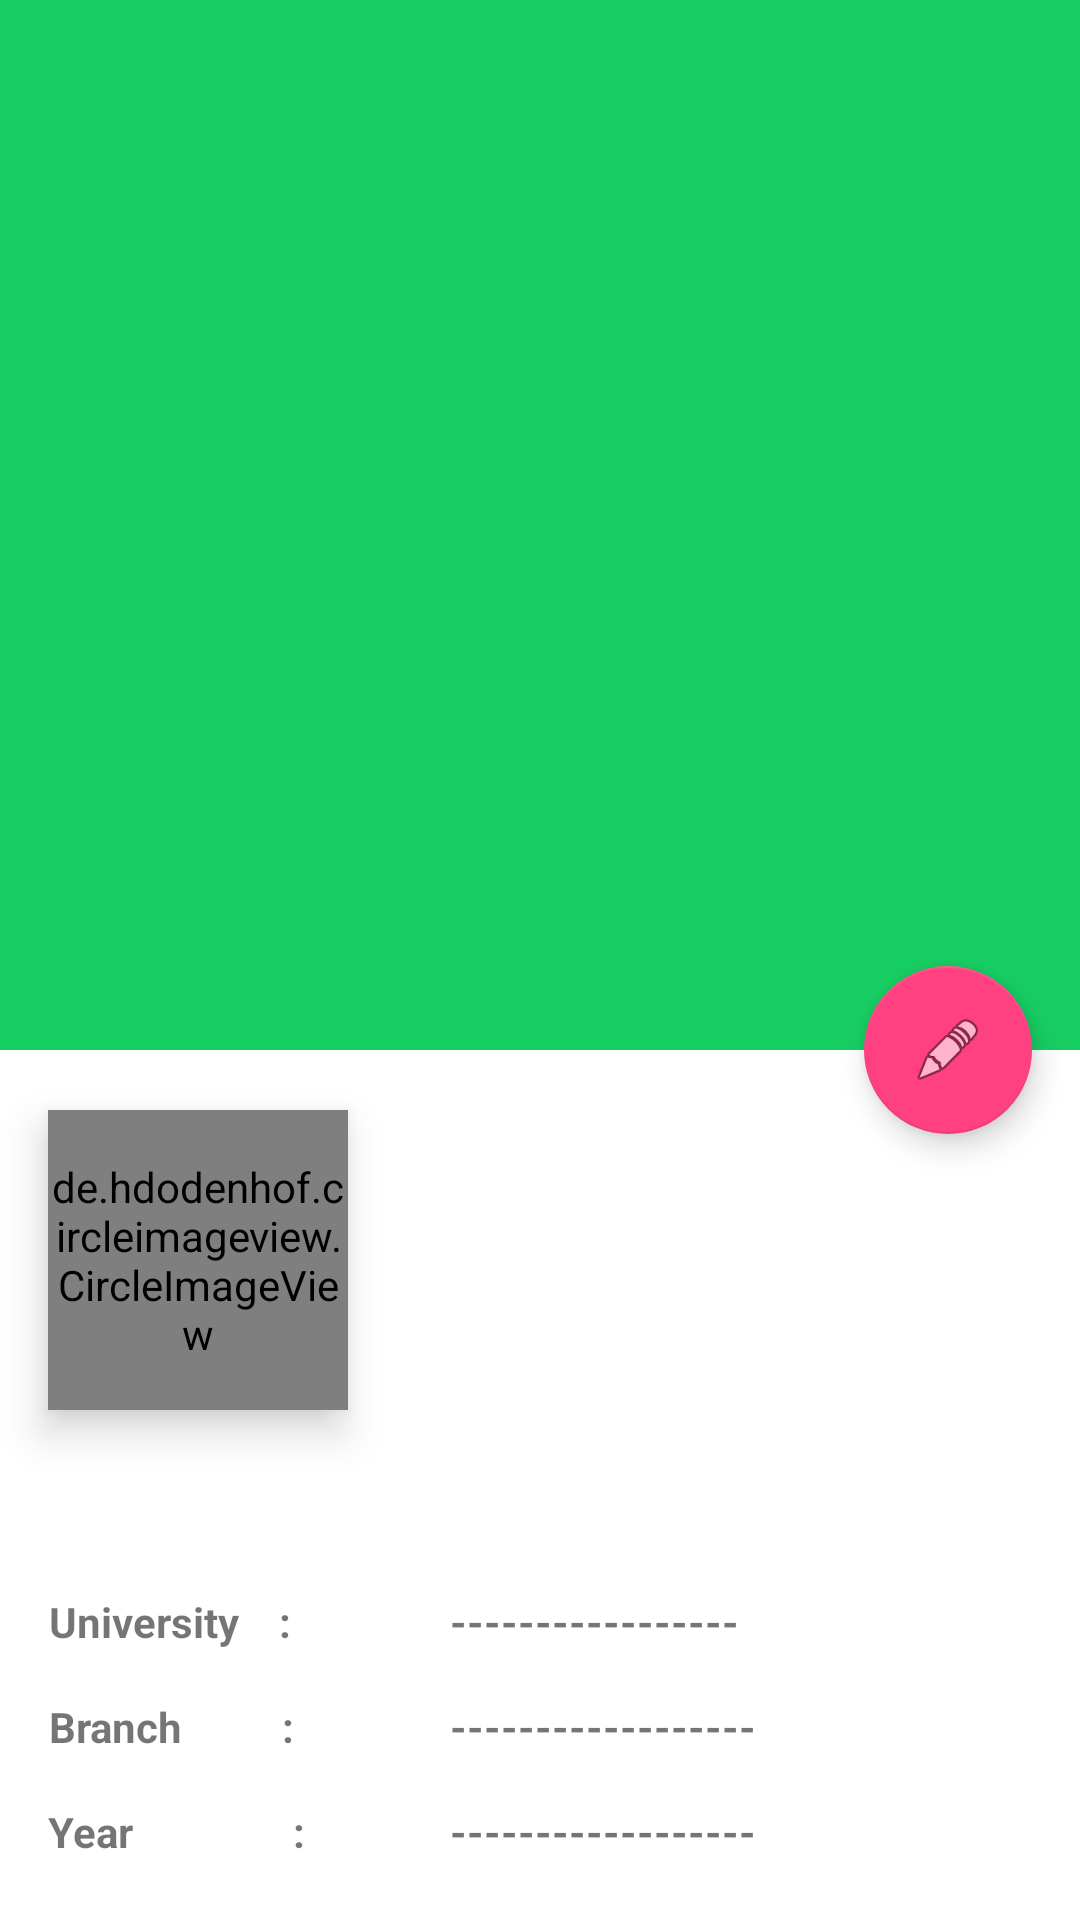

Named icons in this screenshot (1080w x 1920h) and their centers, (x,y):
edit: (948,1050)
